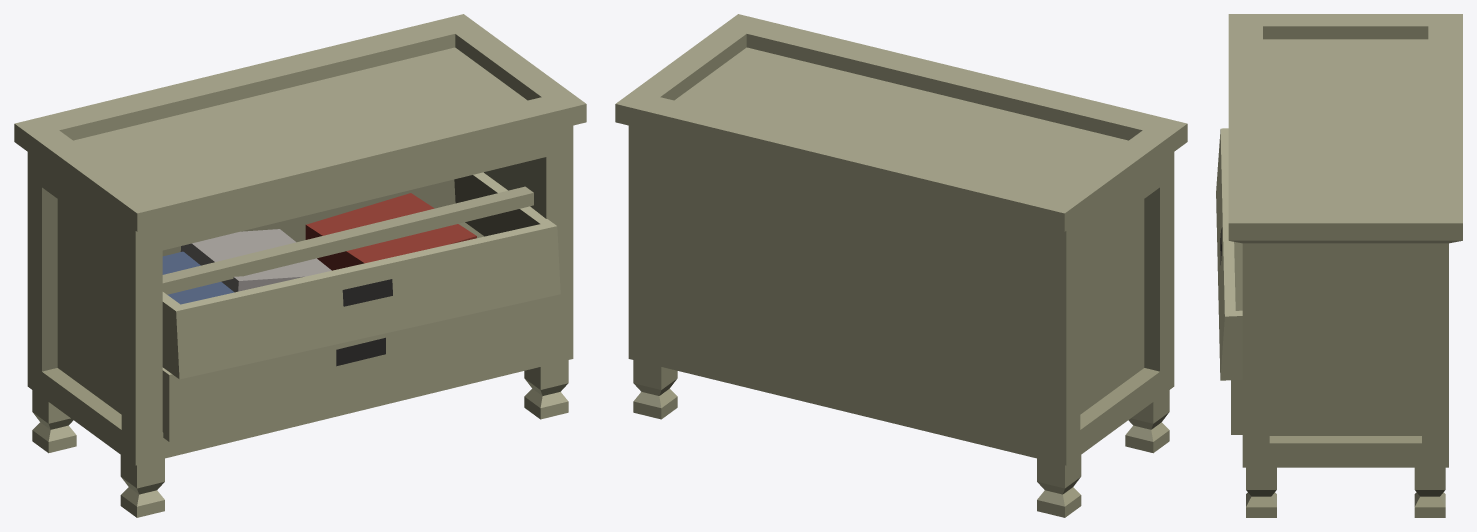
Rendered from AI_Prop_Dresser_02.fbx.
The picture shows the model from 3 angles, left to right: view 1: azimuth 30°, elevation 25°; view 2: azimuth 150°, elevation 25°; view 3: azimuth 270°, elevation 25°; orthographic projection. The views are drawn at different scales.
Parts seen in each view (by area): view 1: AI_Prop_Dresser_02; view 2: AI_Prop_Dresser_02; view 3: AI_Prop_Dresser_02.
Boxes of the visible parts, box(x1,y1,x2,y2) form: AI_Prop_Dresser_02: box(14, 14, 586, 517); AI_Prop_Dresser_02: box(615, 14, 1187, 517); AI_Prop_Dresser_02: box(1216, 14, 1462, 517).
Size of the model in its own units: 2.61 by 1.74 by 1.3.
